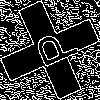P: (25, 25, 81, 74)
